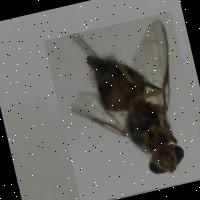Oriental-fruit-fly: (42, 11, 200, 200)
